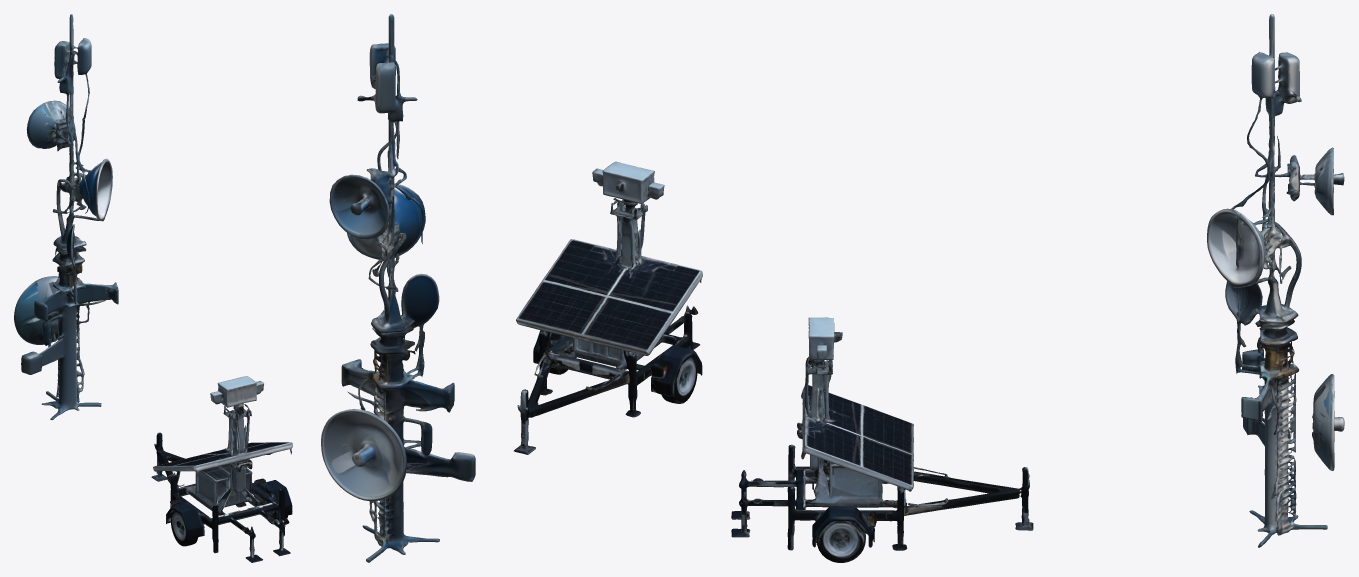
The model's file is Tower.obj.
The picture shows the model from 3 angles, left to right: view 1: azimuth 30°, elevation 25°; view 2: azimuth 150°, elevation 25°; view 3: azimuth 270°, elevation 25°; orthographic projection. The views are drawn at different scales.
Parts seen in each view (by area): view 1: Tower, Mesh_0; view 2: Tower, Mesh_0; view 3: Tower, Mesh_0.
Part boxes in pixels (<box>): Tower: <box>14,14,118,420</box>; Mesh_0: <box>151,376,292,562</box>; Tower: <box>321,14,475,562</box>; Mesh_0: <box>514,161,702,454</box>; Tower: <box>1207,14,1344,547</box>; Mesh_0: <box>731,317,1033,562</box>.
Size of the model in its own units: 0.5305 by 1.91 by 2.04.
